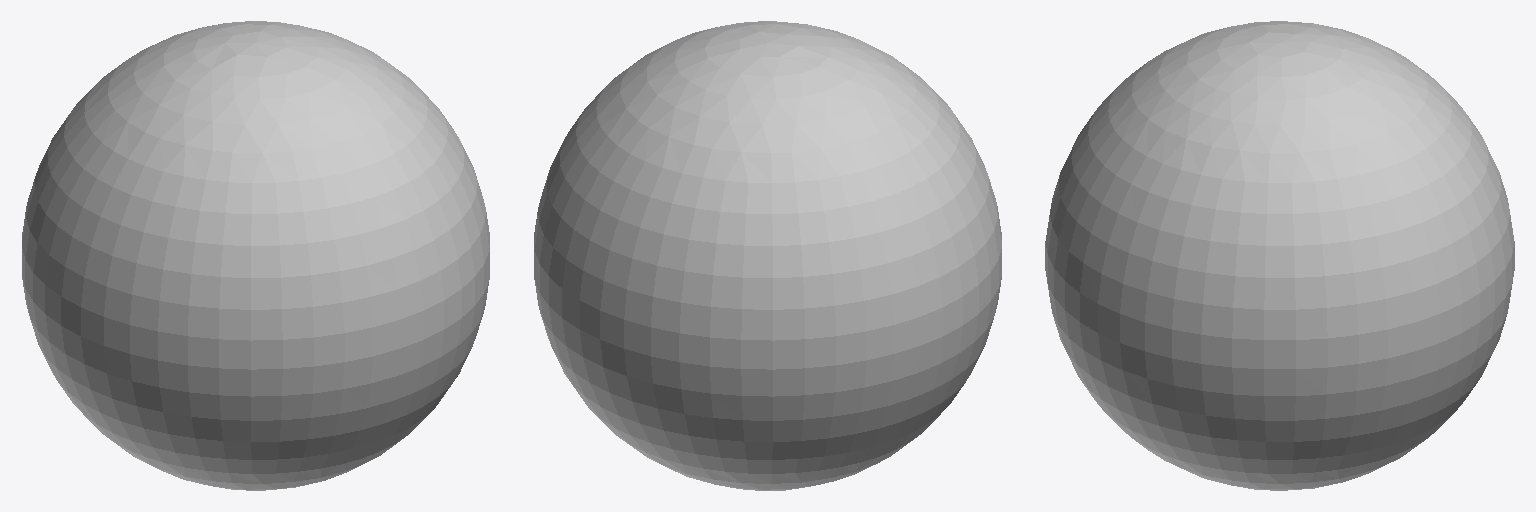
The model's file is earth_obj.obj.
The picture shows the model from 3 angles: view 1: azimuth 30°, elevation 25°; view 2: azimuth 150°, elevation 25°; view 3: azimuth 270°, elevation 25°; orthographic projection.
Parts seen in each view (by area): view 1: o1; view 2: o1; view 3: o1.
Boxes of the visible parts, x1=… form: o1: x1=22, y1=21, x2=489, y2=490; o1: x1=534, y1=21, x2=1001, y2=490; o1: x1=1045, y1=21, x2=1514, y2=490.
Size of the model in its own units: 3.98 by 4 by 3.99.